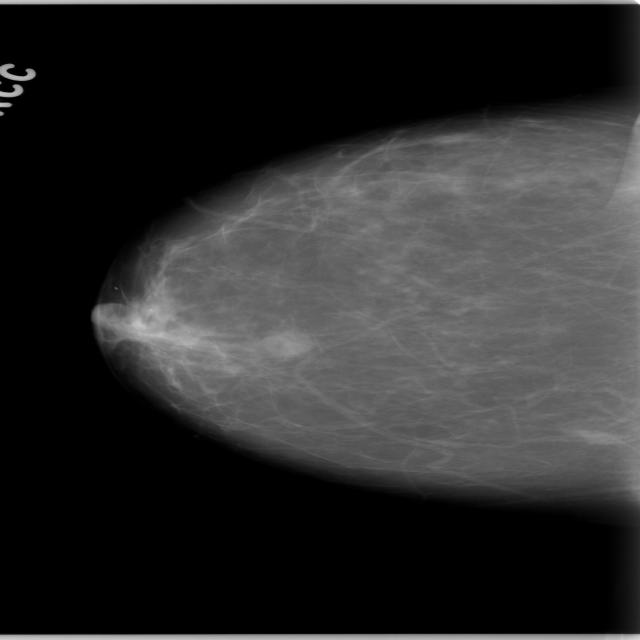normal: (73, 107, 640, 506)
